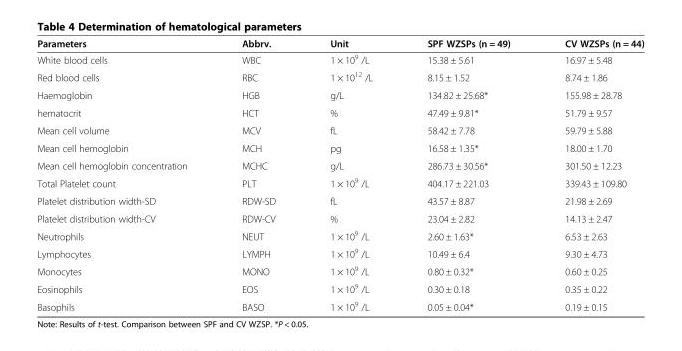table: (36, 37, 643, 312)
table column: (36, 37, 213, 312), (399, 37, 537, 312), (537, 37, 643, 312), (302, 37, 399, 312), (213, 37, 302, 312)
table column header: (36, 37, 643, 50)
table row: (36, 67, 643, 86), (36, 103, 643, 121), (36, 121, 643, 139), (36, 173, 643, 191), (36, 191, 643, 209), (36, 226, 643, 244), (36, 261, 643, 279), (36, 50, 643, 67), (36, 86, 643, 103), (36, 139, 643, 156), (36, 156, 643, 173), (36, 209, 643, 226), (36, 244, 643, 261), (36, 279, 643, 296), (36, 296, 643, 312), (36, 37, 643, 50)
